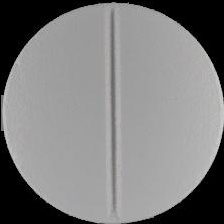50436-4477: (0, 0, 224, 224)
